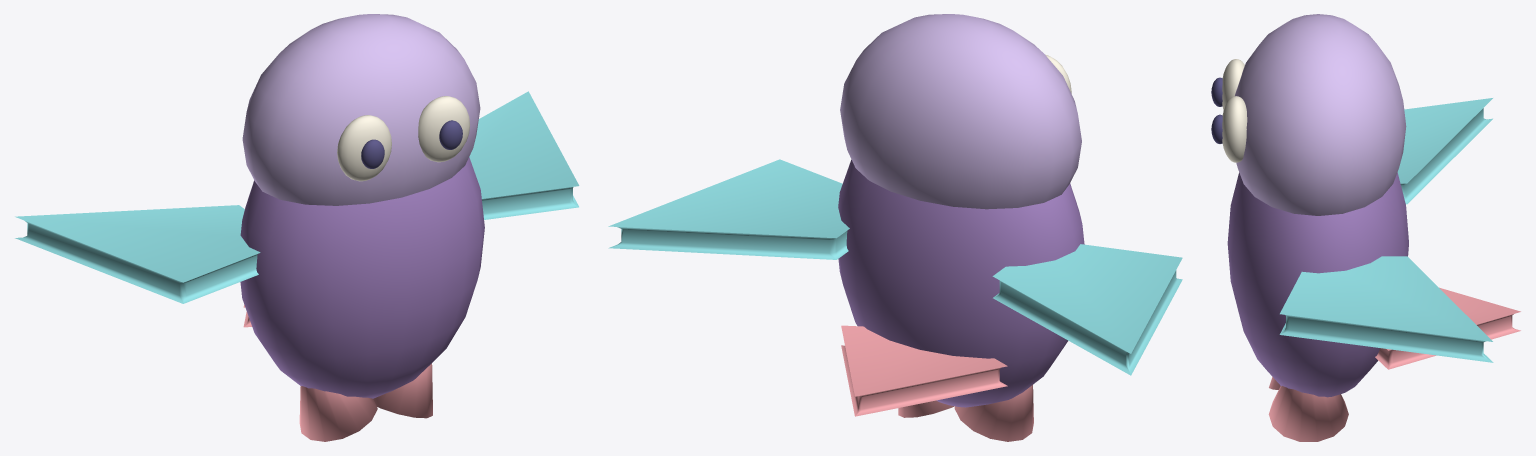
File: mischief_imp.glb
The picture shows the model from 3 angles, left to right: view 1: azimuth 30°, elevation 25°; view 2: azimuth 150°, elevation 25°; view 3: azimuth 270°, elevation 25°; orthographic projection. The views are drawn at different scales.
Parts seen in each view (by area): view 1: Fixed_Detail.002; view 2: Fixed_Detail.002; view 3: Fixed_Detail.002.
Part boxes in pixels (x1,y1,x2,y2): Fixed_Detail.002: [15, 14, 579, 441]; Fixed_Detail.002: [608, 14, 1182, 441]; Fixed_Detail.002: [1211, 14, 1520, 441].
Size of the model in its own units: 6.05 by 4.46 by 3.25.
